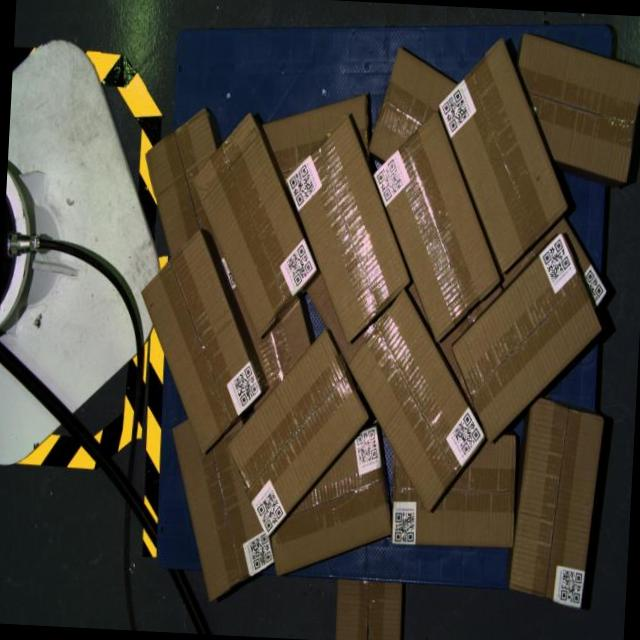box: (447, 226, 608, 449), (430, 34, 577, 278), (340, 286, 494, 516), (365, 107, 509, 346), (278, 110, 420, 348), (221, 323, 374, 542), (184, 110, 326, 342), (132, 227, 271, 458), (508, 396, 605, 610), (511, 32, 640, 183)
